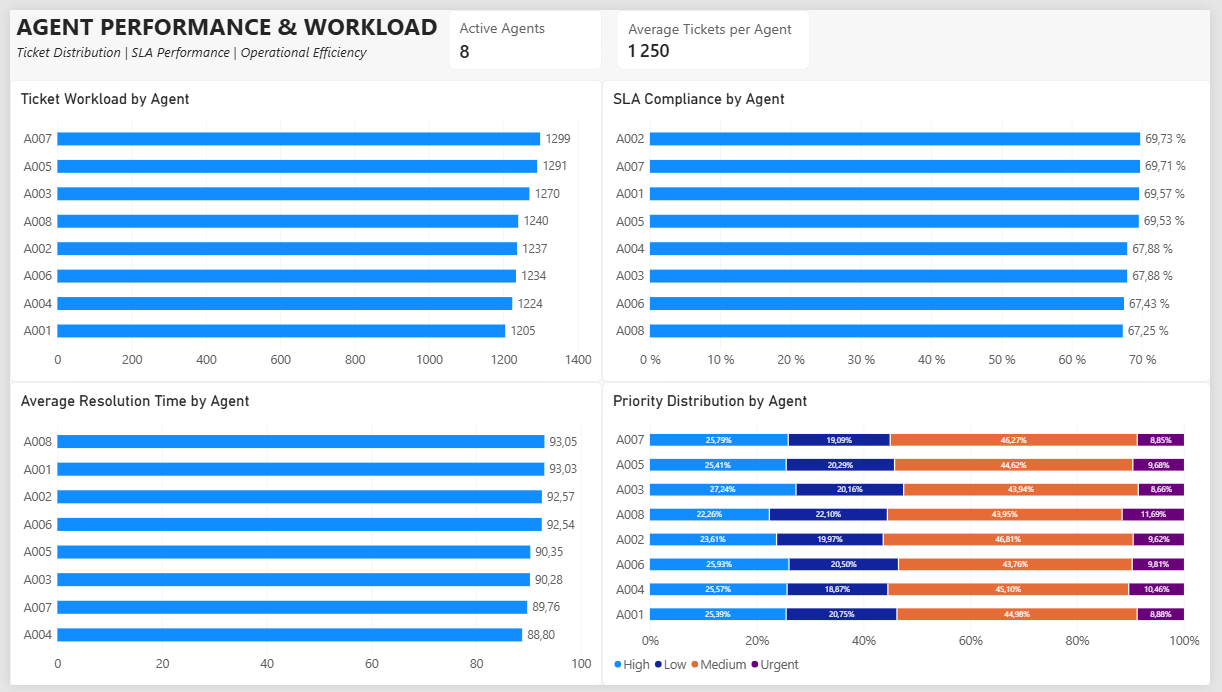

The dashboard page shown, as its layout file describes it:
{"tool":"powerbi","page":{"name":"03 | Agent Performance","canvas":[1920,1080],"ordinal":2},"visuals":[{"type":"textbox","box":[10,0,692.5,52.5],"z":0},{"type":"textbox","box":[10,52.5,577.5,42.5],"z":1000},{"type":"cardVisual","fields":{"Data":["tickets.Active Agents"]},"box":[702.5,0,245,95],"z":2000},{"type":"cardVisual","fields":{"Data":["tickets.Average Tickets per Agent Display"]},"box":[972.5,0,307.5,95],"z":3000},{"type":"clusteredBarChart","title":"Ticket Workload by Agent","fields":{"Category":["tickets.agent_id"],"Y":["tickets.Total Tickets"]},"box":[0,112.5,947.5,482.5],"z":4000},{"type":"clusteredBarChart","title":"SLA Compliance by Agent","fields":{"Category":["tickets.agent_id"],"Y":["tickets.SLA Compliance %"]},"box":[947.5,112.5,972.5,482.5],"z":5000},{"type":"clusteredBarChart","title":"Average Resolution Time by Agent","fields":{"Category":["tickets.agent_id"],"Y":["tickets.Average Resolution Hours"]},"box":[0,595,947.5,485],"z":6000},{"type":"hundredPercentStackedBarChart","title":"Priority Distribution by Agent","fields":{"Category":["tickets.agent_id"],"Series":["tickets.priority"],"Y":["tickets.Total Tickets"]},"box":[947.5,595,972.5,485],"z":7000}]}

Visuals, with their boxes in screenshot pixels (x1, y1, x2, y2), scaled from the page's 1920x1080 canvas onto the 1222x692 screenshot:
textbox: detection(6, 0, 447, 34)
textbox: detection(6, 34, 374, 61)
cardVisual - tickets.Active Agents: detection(447, 0, 603, 61)
cardVisual - tickets.Average Tickets per Agent Display: detection(619, 0, 815, 61)
"Ticket Workload by Agent" clusteredBarChart: detection(0, 72, 603, 381)
"SLA Compliance by Agent" clusteredBarChart: detection(603, 72, 1221, 381)
"Average Resolution Time by Agent" clusteredBarChart: detection(0, 381, 603, 691)
"Priority Distribution by Agent" hundredPercentStackedBarChart: detection(603, 381, 1221, 691)
